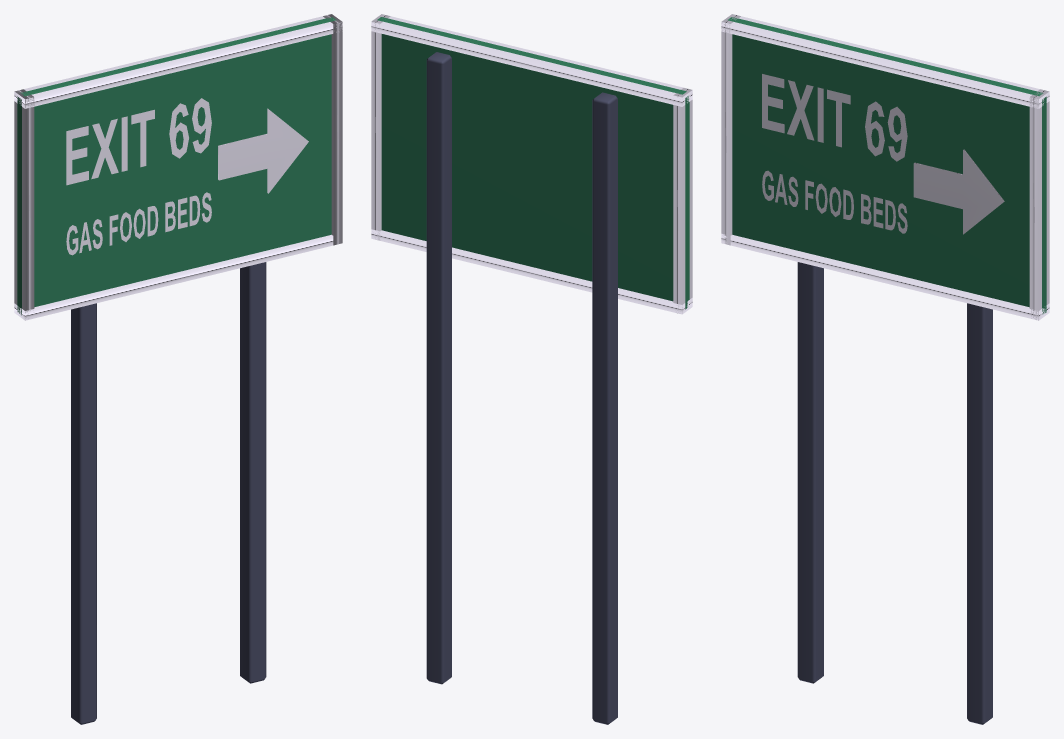
Rendered from road_sign_exit.glb.
3 views of the same model, side by side, from view 1: azimuth 30°, elevation 25°; view 2: azimuth 150°, elevation 25°; view 3: azimuth 330°, elevation 25° (orthographic). The views are drawn at different scales.
Visible parts, largest first — view 1: Sign; view 2: Sign; view 3: Sign.
Boxes of the visible parts, x1,y1,x2,y2 form: Sign: (14, 14, 342, 724); Sign: (371, 14, 692, 724); Sign: (721, 14, 1049, 724).
Size of the model in its own units: 1.2 by 2.35 by 0.141.
